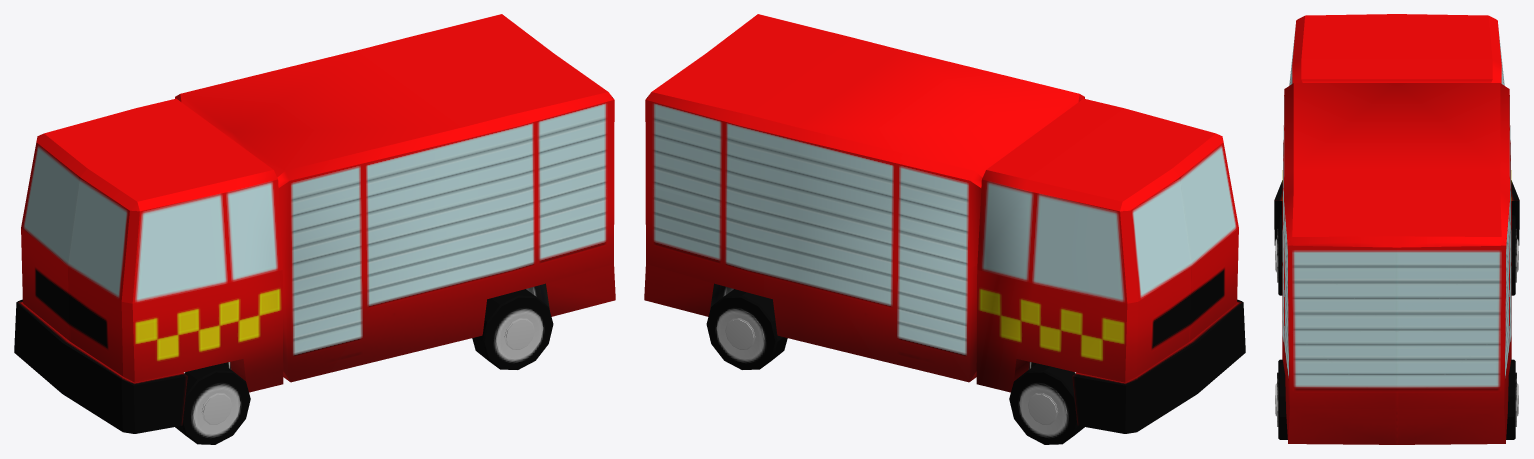
File: mobil_damcar.fbx
3 views of the same model, side by side, from view 1: azimuth 30°, elevation 25°; view 2: azimuth 150°, elevation 25°; view 3: azimuth 270°, elevation 25° (orthographic).
Parts seen in each view (by area): view 1: damcar; view 2: damcar; view 3: damcar.
Part boxes in pixels (x1,y1,x2,y2): damcar: (14,14,615,444); damcar: (644,14,1245,444); damcar: (1274,14,1519,444).
Bounding box in the file's own units: 45.15 × 21.66 × 19.53.
